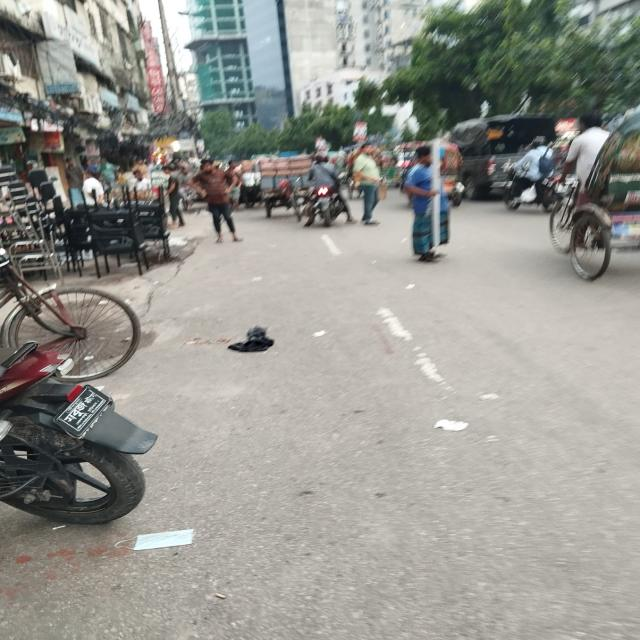person: (404, 146, 448, 263), (352, 144, 382, 225)
